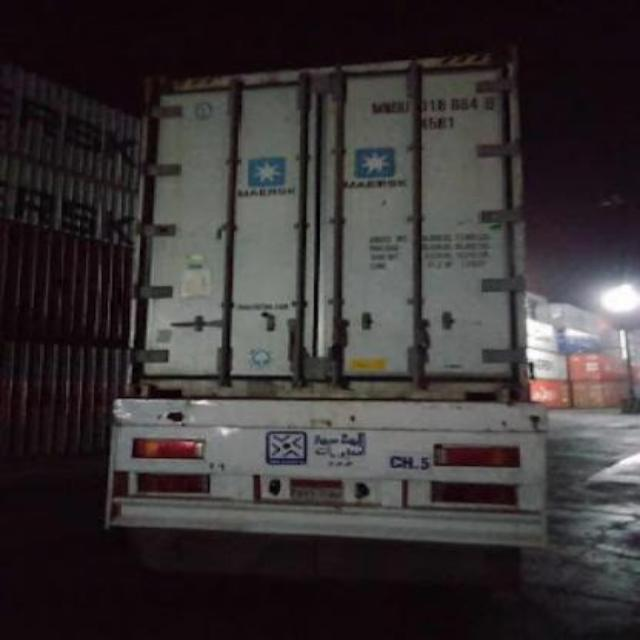0: (420, 98, 428, 112)
1: (428, 97, 438, 109)
4: (470, 95, 480, 108)
6: (458, 94, 472, 110)
8: (438, 98, 448, 112), (484, 96, 494, 110), (452, 96, 460, 110)
B: (392, 98, 400, 112)
M: (372, 100, 382, 114)
N: (382, 102, 390, 115)
U: (400, 100, 410, 112)
